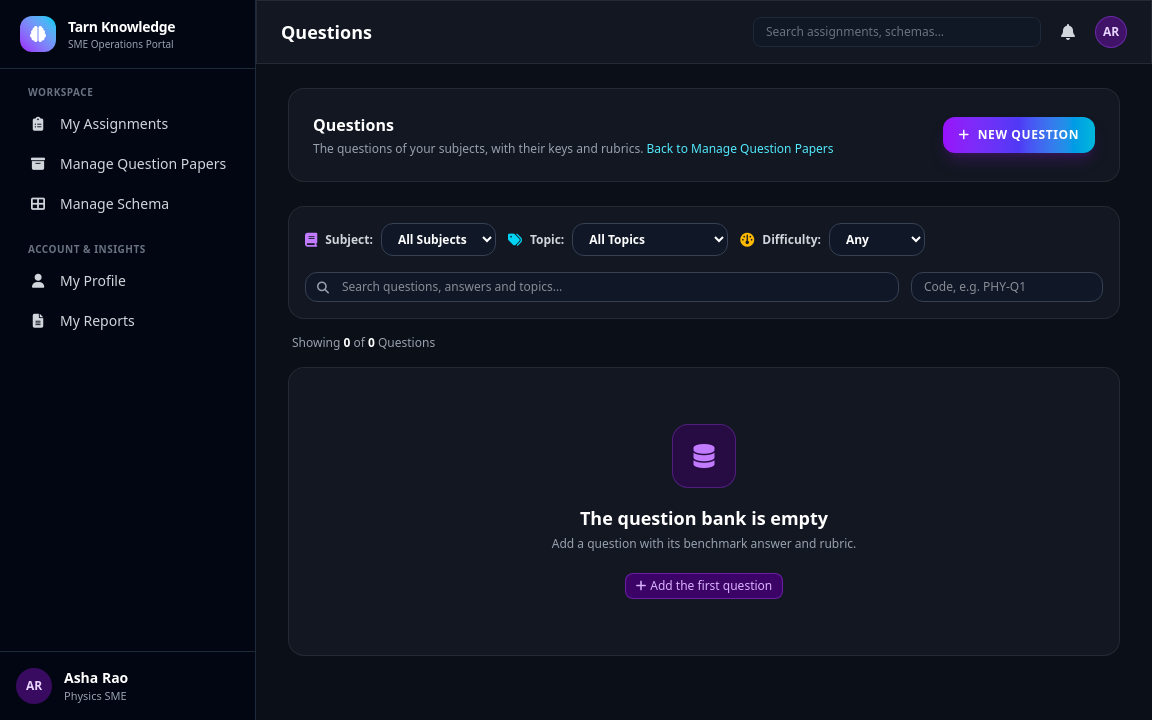
Test case: repository browser › says when nothing matches, and offers the first question when the bank is empty
Check: the heading "The question bank is empty" is shown, box [580,504,828,532]
Click the button "Add the first question". click: (704, 586)
box: [625,573,783,599]
(page scrolled)
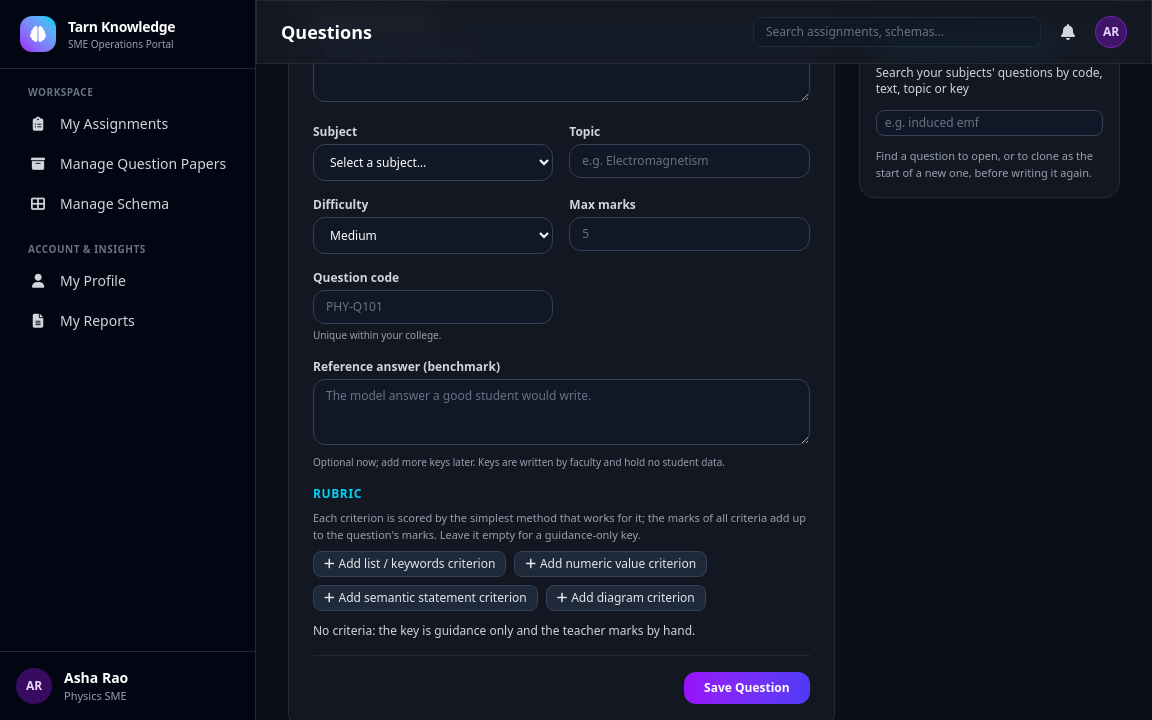
Check: the form named "New question" is shown, box [313,16,810,704]
